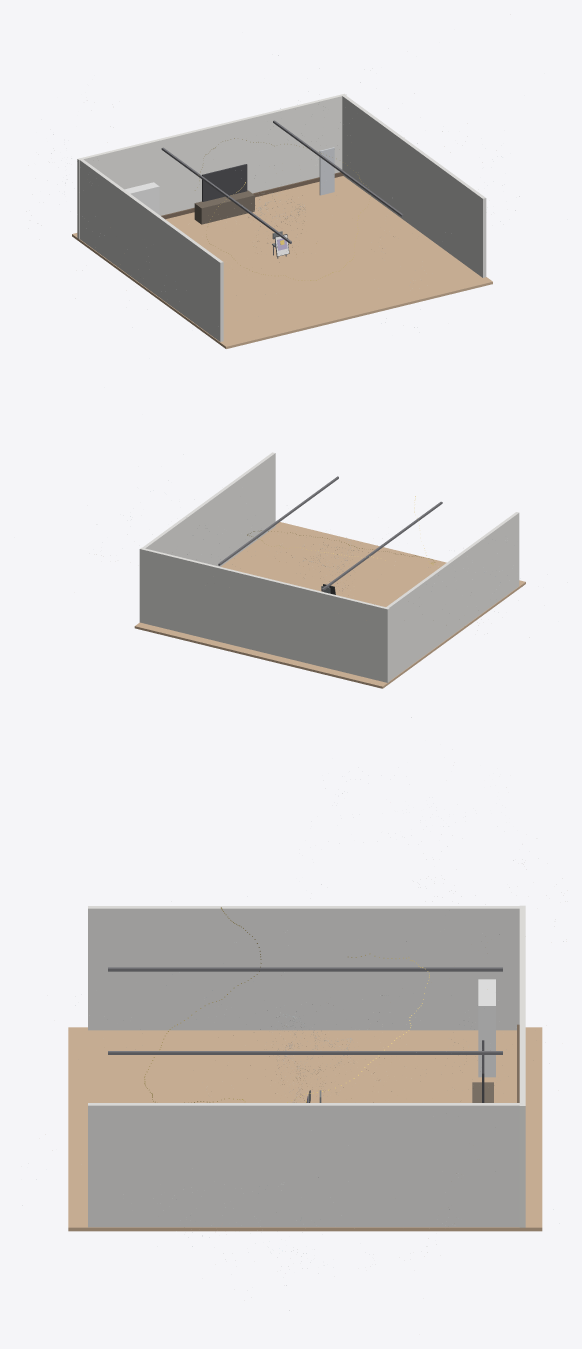
File: poster_twin.glb
3 views of the same model, one above another, from view 1: azimuth 30°, elevation 25°; view 2: azimuth 150°, elevation 25°; view 3: azimuth 270°, elevation 25° (orthographic). The views are drawn at different scales.
Visible parts, largest first — view 1: Hardwood_Floor, Gallery_Wall_Back, Gallery_Wall_Left, Gallery_Wall_Right, Media_Console, Television_Screen, Full_Length_Mirror, Bookshelf_Storage, Floor_Baseboard_Back, Ceiling_Rail_Left, Ceiling_Rail_Right; view 2: Gallery_Wall_Back, Hardwood_Floor, Gallery_Wall_Left, Gallery_Wall_Right, Ceiling_Rail_Left, Ceiling_Rail_Right; view 3: Gallery_Wall_Right, Gallery_Wall_Left, Hardwood_Floor, Gallery_Wall_Back, Ceiling_Rail_Left, Bookshelf_Storage, Ceiling_Rail_Right.
Boxes of the visible parts, box(x1,y1,x2,y2) form: Hardwood_Floor: box(72, 176, 492, 348); Gallery_Wall_Back: box(77, 93, 346, 239); Gallery_Wall_Left: box(79, 159, 223, 341); Gallery_Wall_Right: box(342, 95, 486, 277); Media_Console: box(194, 190, 254, 224); Television_Screen: box(202, 164, 247, 201); Full_Length_Mirror: box(319, 147, 334, 195); Bookshelf_Storage: box(124, 182, 159, 214); Floor_Baseboard_Back: box(161, 172, 343, 219); Ceiling_Rail_Left: box(161, 147, 291, 243); Ceiling_Rail_Right: box(273, 120, 403, 216); Gallery_Wall_Back: box(139, 547, 389, 682); Hardwood_Floor: box(134, 522, 525, 688); Gallery_Wall_Left: box(386, 512, 519, 680); Gallery_Wall_Right: box(142, 452, 275, 566); Ceiling_Rail_Left: box(321, 501, 442, 590); Ceiling_Rail_Right: box(218, 476, 338, 565); Gallery_Wall_Right: box(88, 1103, 522, 1227); Gallery_Wall_Left: box(88, 906, 522, 1030); Hardwood_Floor: box(68, 1027, 542, 1231); Gallery_Wall_Back: box(519, 905, 525, 1227); Ceiling_Rail_Left: box(108, 967, 502, 971); Bookshelf_Storage: box(478, 979, 495, 1077); Ceiling_Rail_Right: box(108, 1051, 502, 1054).
Size of the model in its own units: 21.17 by 8.47 by 14.03.
